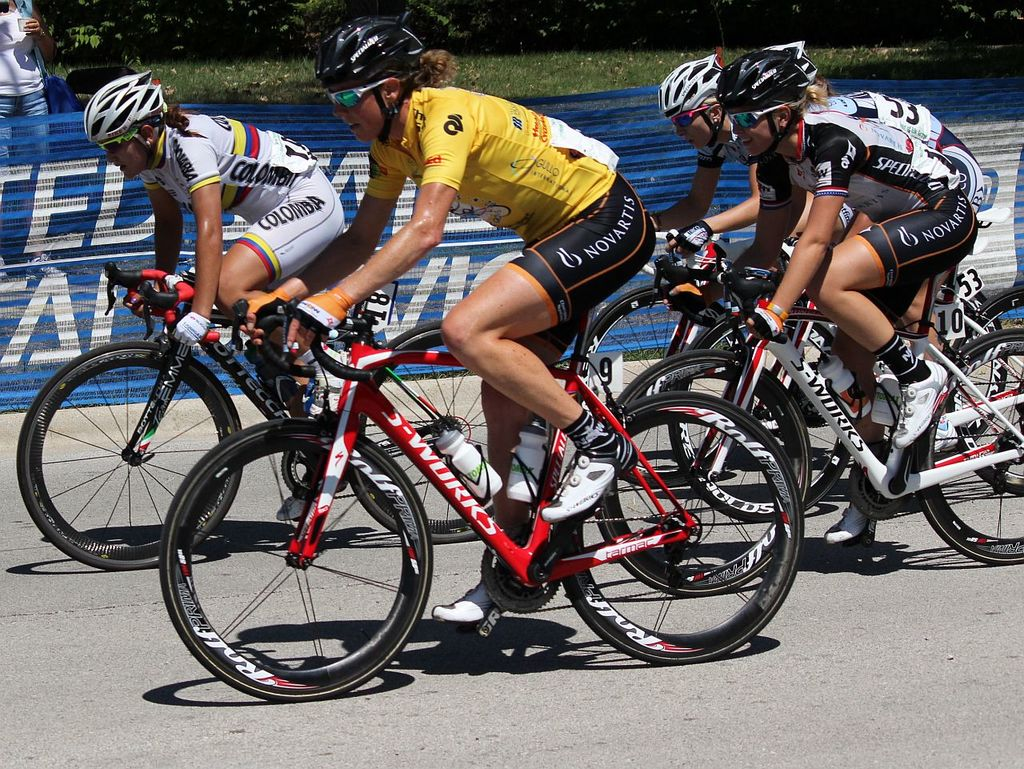Bike: (197, 329, 775, 702)
